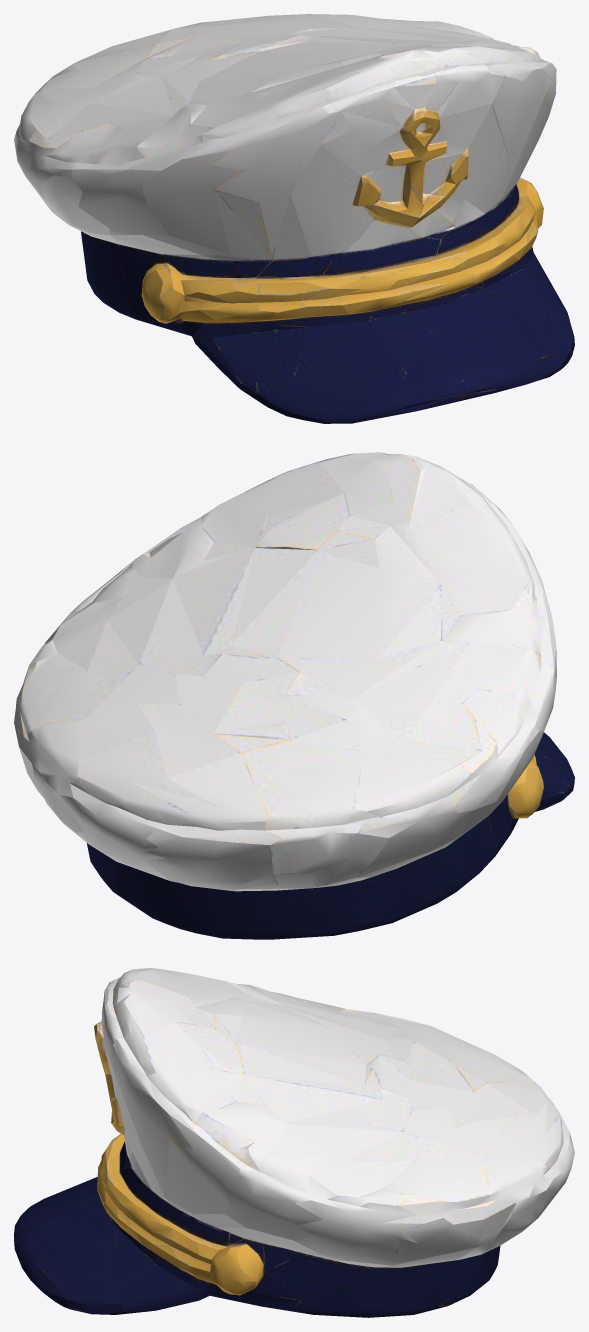
File: set_captain_hat.fbx
3 renders of one model, top to bottom at view 1: azimuth 30°, elevation 25°; view 2: azimuth 150°, elevation 25°; view 3: azimuth 270°, elevation 25°, orthographic. The views are drawn at different scales.
Parts seen in each view (by area): view 1: Mesh_0; view 2: Mesh_0; view 3: Mesh_0.
Part boxes in pixels (x1,y1,x2,y2): Mesh_0: (14,14,574,423); Mesh_0: (14,452,574,939); Mesh_0: (14,968,574,1317).
Size of the model in its own units: 1.58 by 1.04 by 1.9.
Materials: 1 (1 with a texture image).
